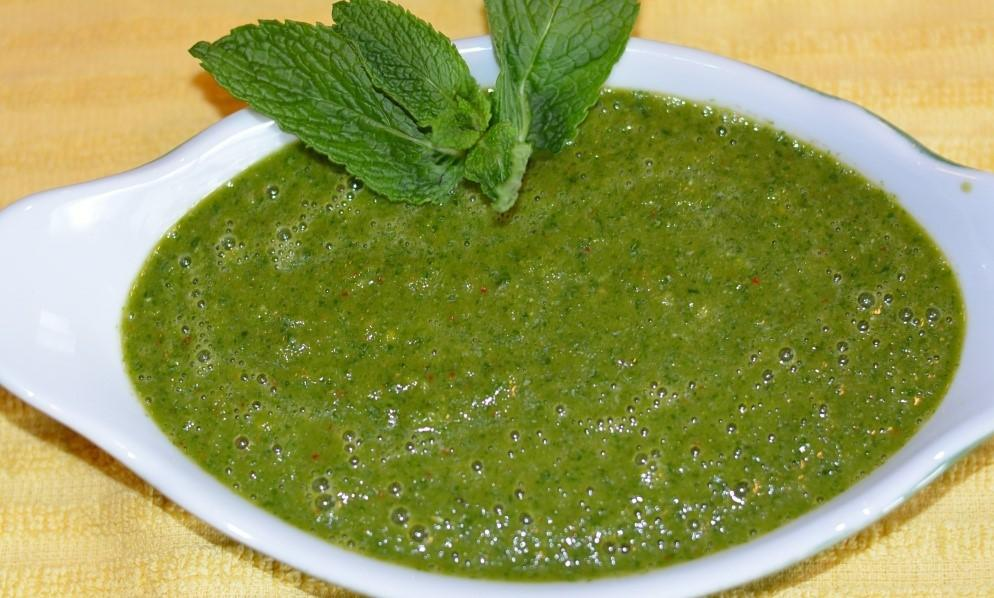GreenChutney: (121, 85, 964, 580)
